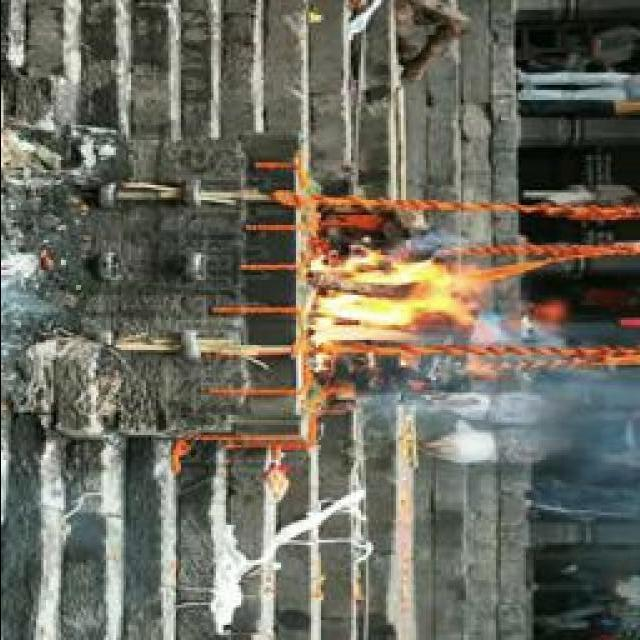Fire: (308, 252, 474, 342)
